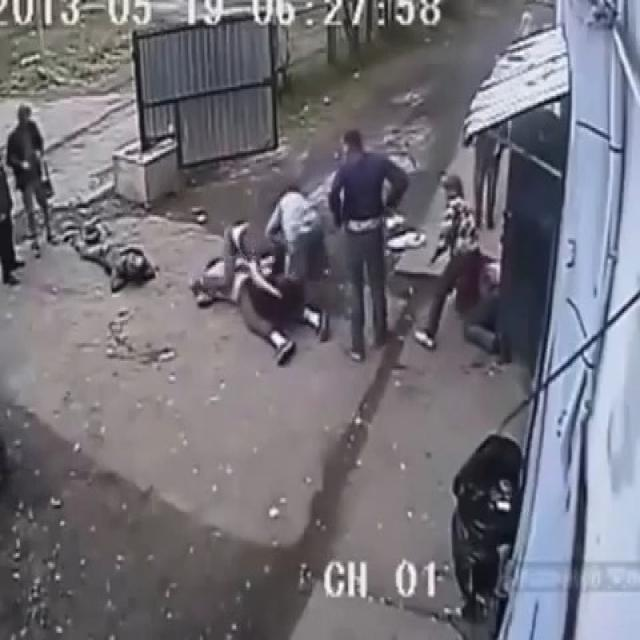fight: (193, 216, 331, 368), (444, 434, 528, 618), (223, 187, 333, 276)
